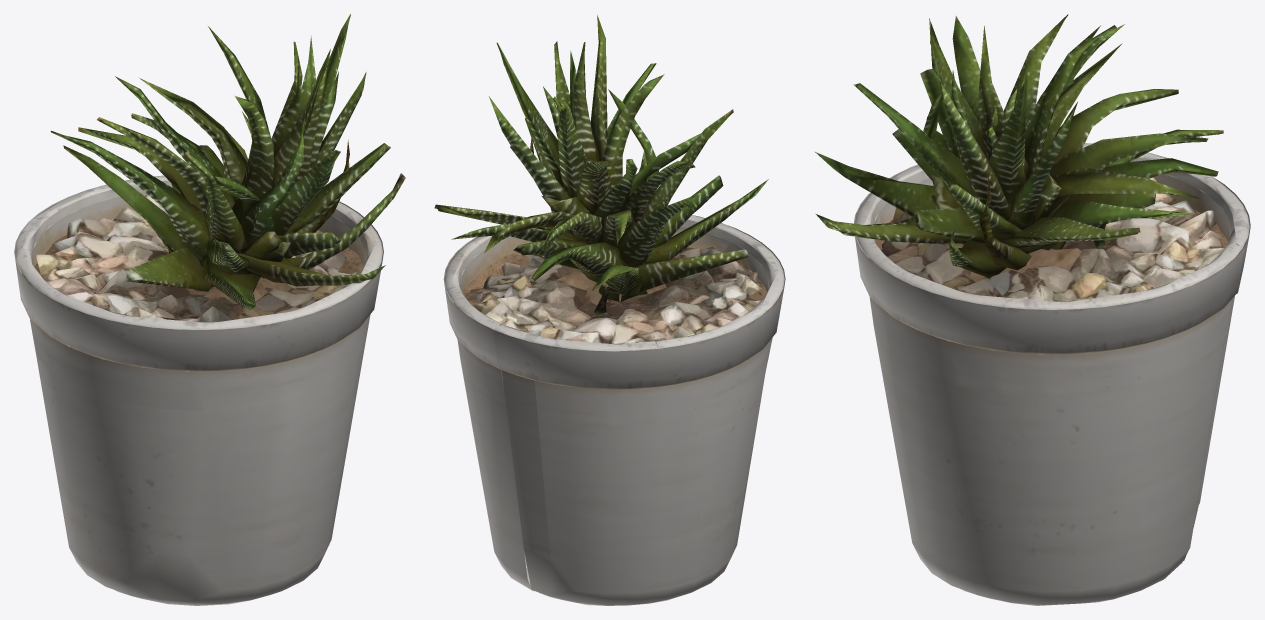
Rendered from ph_desk_plant.glb.
The picture shows the model from 3 angles, left to right: view 1: azimuth 30°, elevation 25°; view 2: azimuth 150°, elevation 25°; view 3: azimuth 270°, elevation 25°; orthographic projection. The views are drawn at different scales.
Visible parts, largest first — view 1: potted_plant_04_pot, potted_plant_04_plant, potted_plant_04_ground, potted_plant_04_dirt; view 2: potted_plant_04_pot, potted_plant_04_plant, potted_plant_04_ground, potted_plant_04_dirt; view 3: potted_plant_04_pot, potted_plant_04_plant, potted_plant_04_ground, potted_plant_04_dirt.
Boxes of the visible parts, x1,y1,x2,y2 form: potted_plant_04_pot: (14,175,383,605); potted_plant_04_plant: (50,14,405,310); potted_plant_04_ground: (35,194,356,322); potted_plant_04_dirt: (22,230,369,303); potted_plant_04_pot: (443,212,785,605); potted_plant_04_plant: (434,15,768,315); potted_plant_04_ground: (464,247,761,343); potted_plant_04_dirt: (454,247,775,311); potted_plant_04_pot: (854,143,1250,605); potted_plant_04_plant: (815,14,1223,278); potted_plant_04_ground: (881,177,1224,301); potted_plant_04_dirt: (868,210,1238,296).
Size of the model in its own units: 0.168 by 0.2677 by 0.1846.
1 material, 1 textured.
